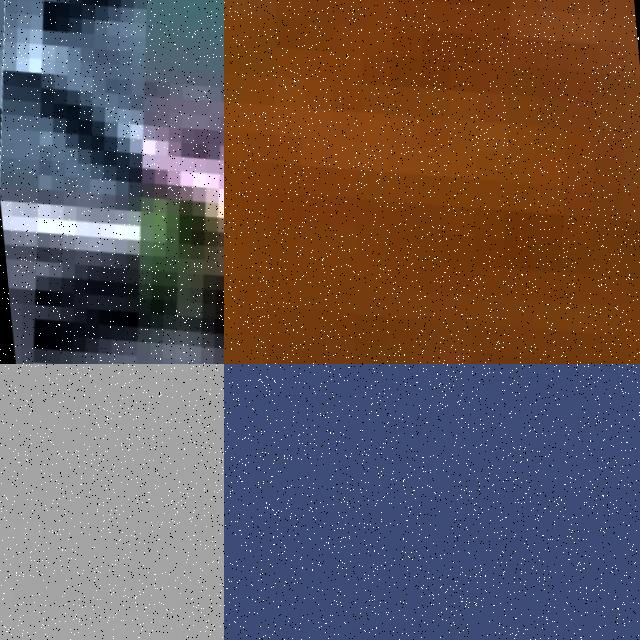drone: (224, 0, 640, 364), (0, 0, 224, 364), (0, 364, 224, 640)
